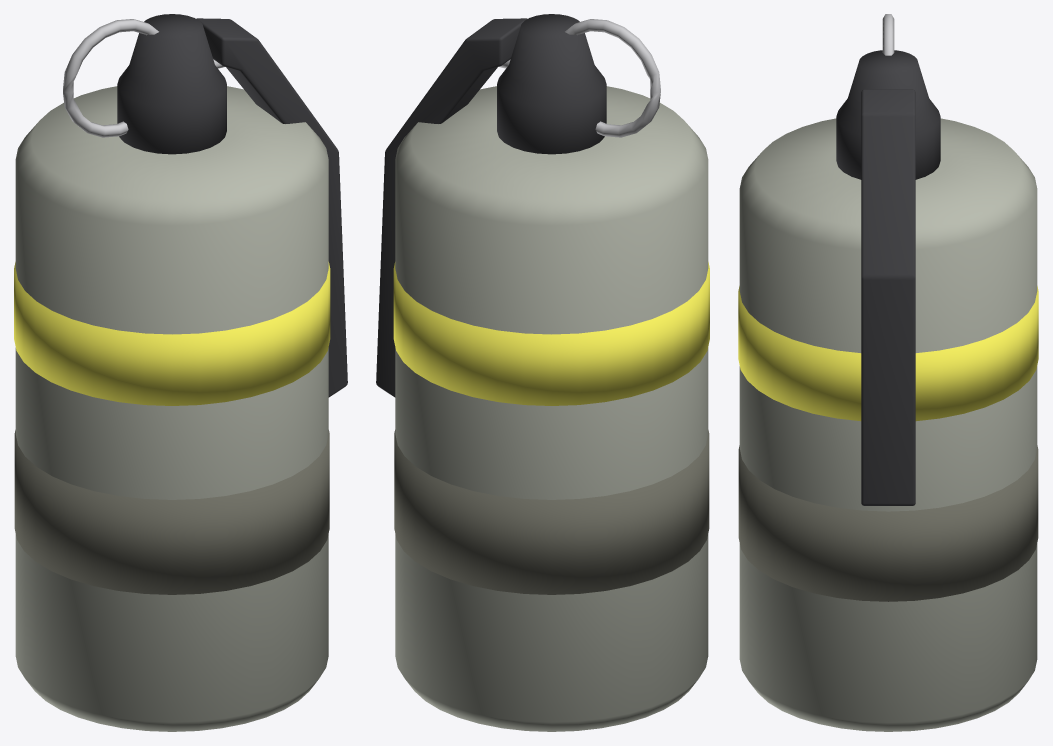
File: SM_SmokeGrenade.glb
The picture shows the model from 3 angles, left to right: view 1: azimuth 30°, elevation 25°; view 2: azimuth 150°, elevation 25°; view 3: azimuth 270°, elevation 25°; orthographic projection. The views are drawn at different scales.
Visible parts, largest first — view 1: SM_SmokeGrenade; view 2: SM_SmokeGrenade; view 3: SM_SmokeGrenade.
Part boxes in pixels (x1,y1,x2,y2): SM_SmokeGrenade: (14,14,347,731); SM_SmokeGrenade: (376,14,709,731); SM_SmokeGrenade: (738,14,1038,731).
Size of the model in its own units: 0.0663 by 0.14 by 0.0606.
